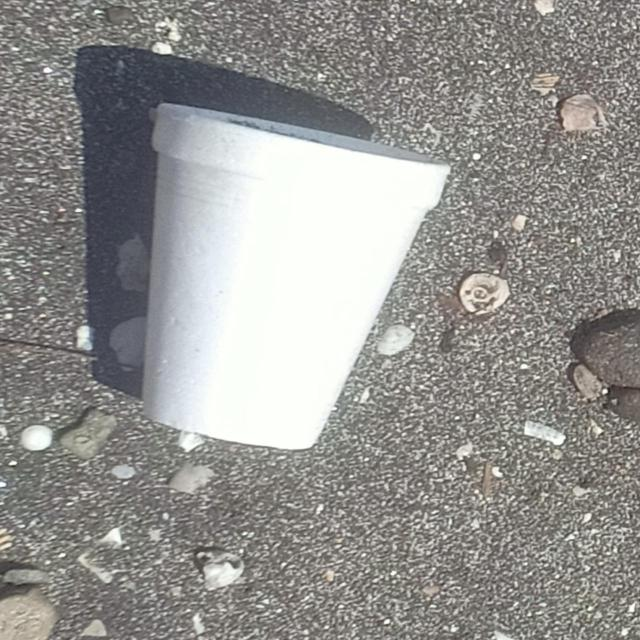styrofoam_waste: (143, 103, 453, 452)
